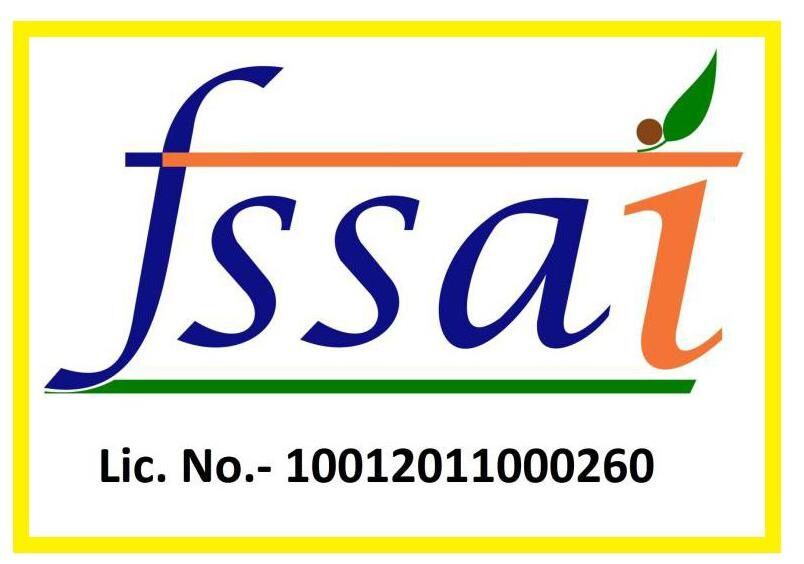fssai: (43, 48, 743, 398)
